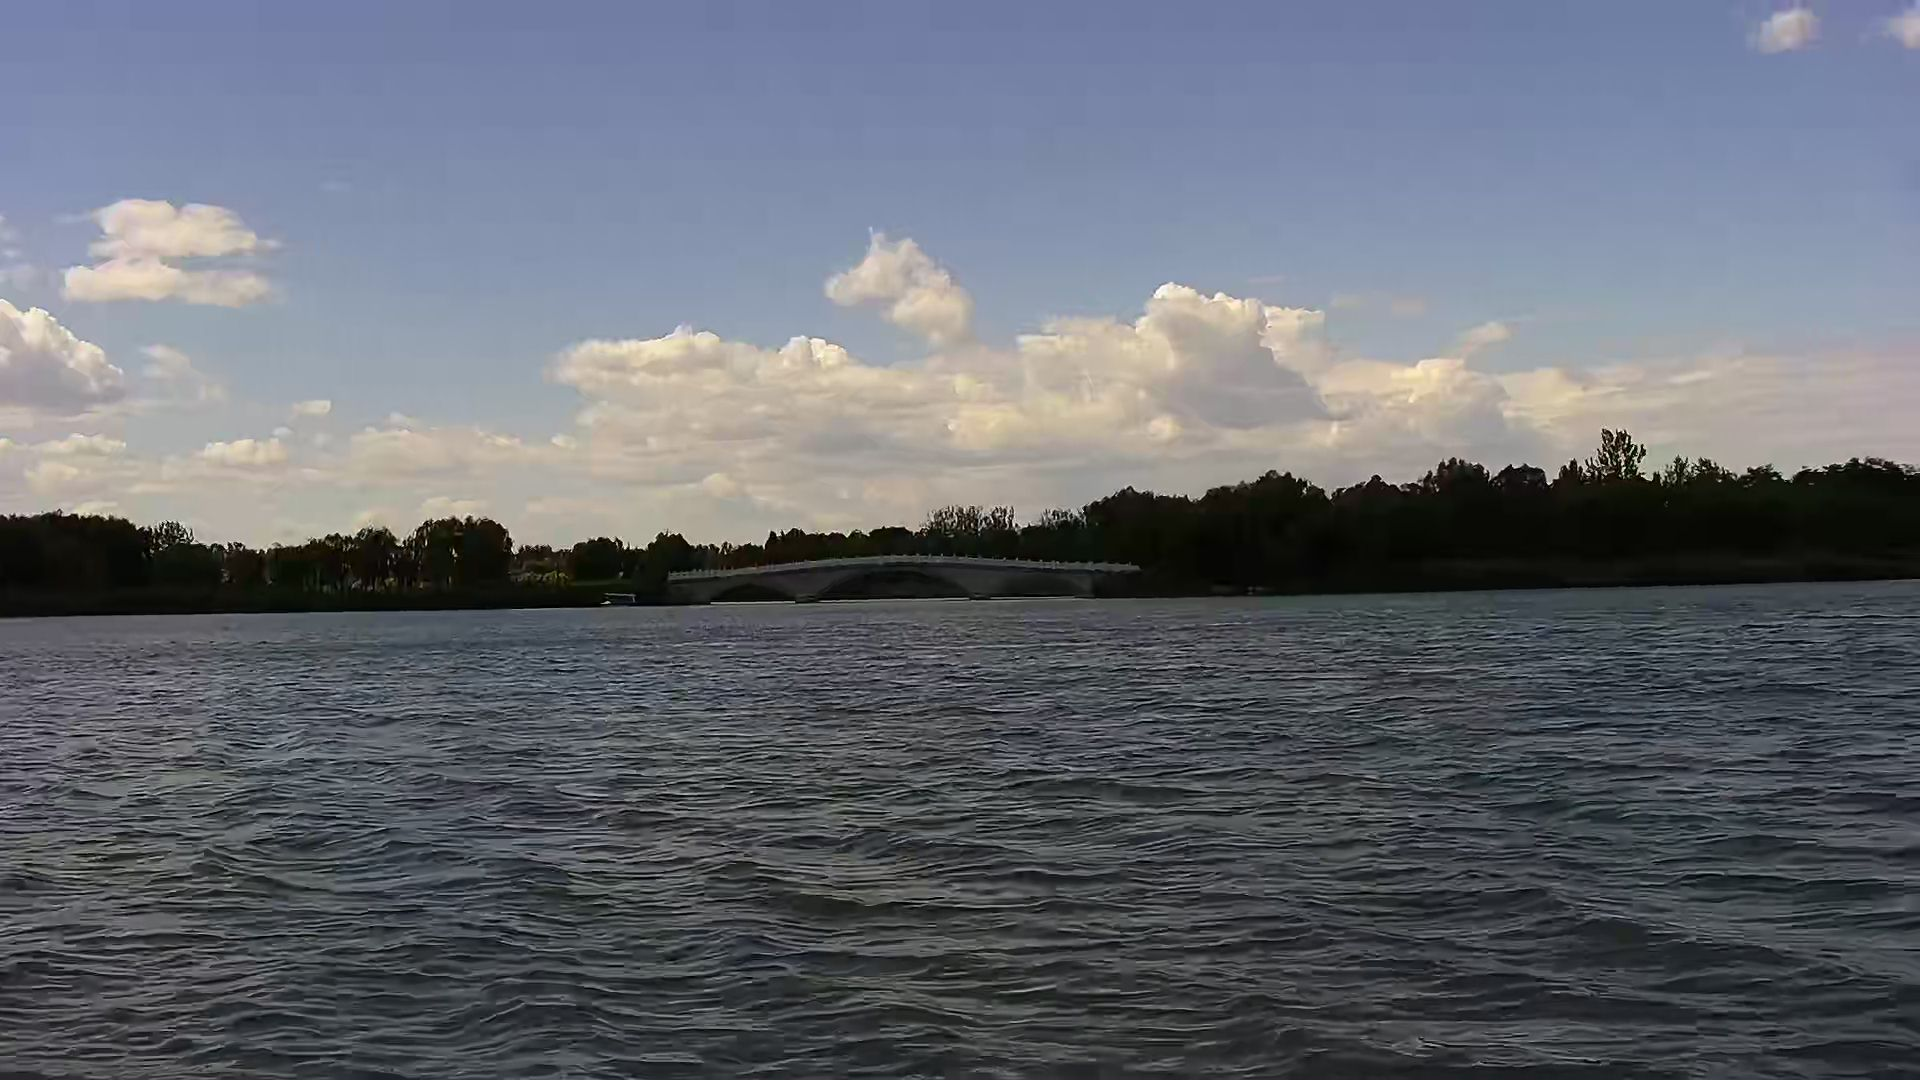bridge: (671, 554, 1147, 607)
